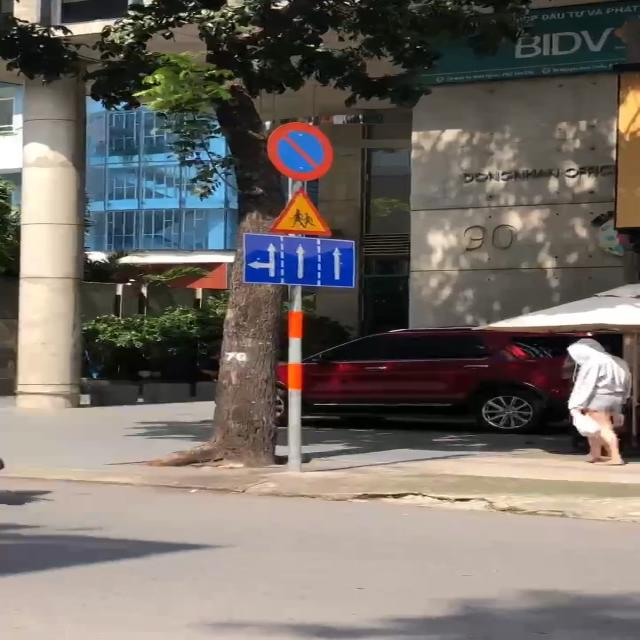Bien bao cam do xe: (256, 118, 342, 184)
Bien bao tre em: (262, 187, 346, 241)
